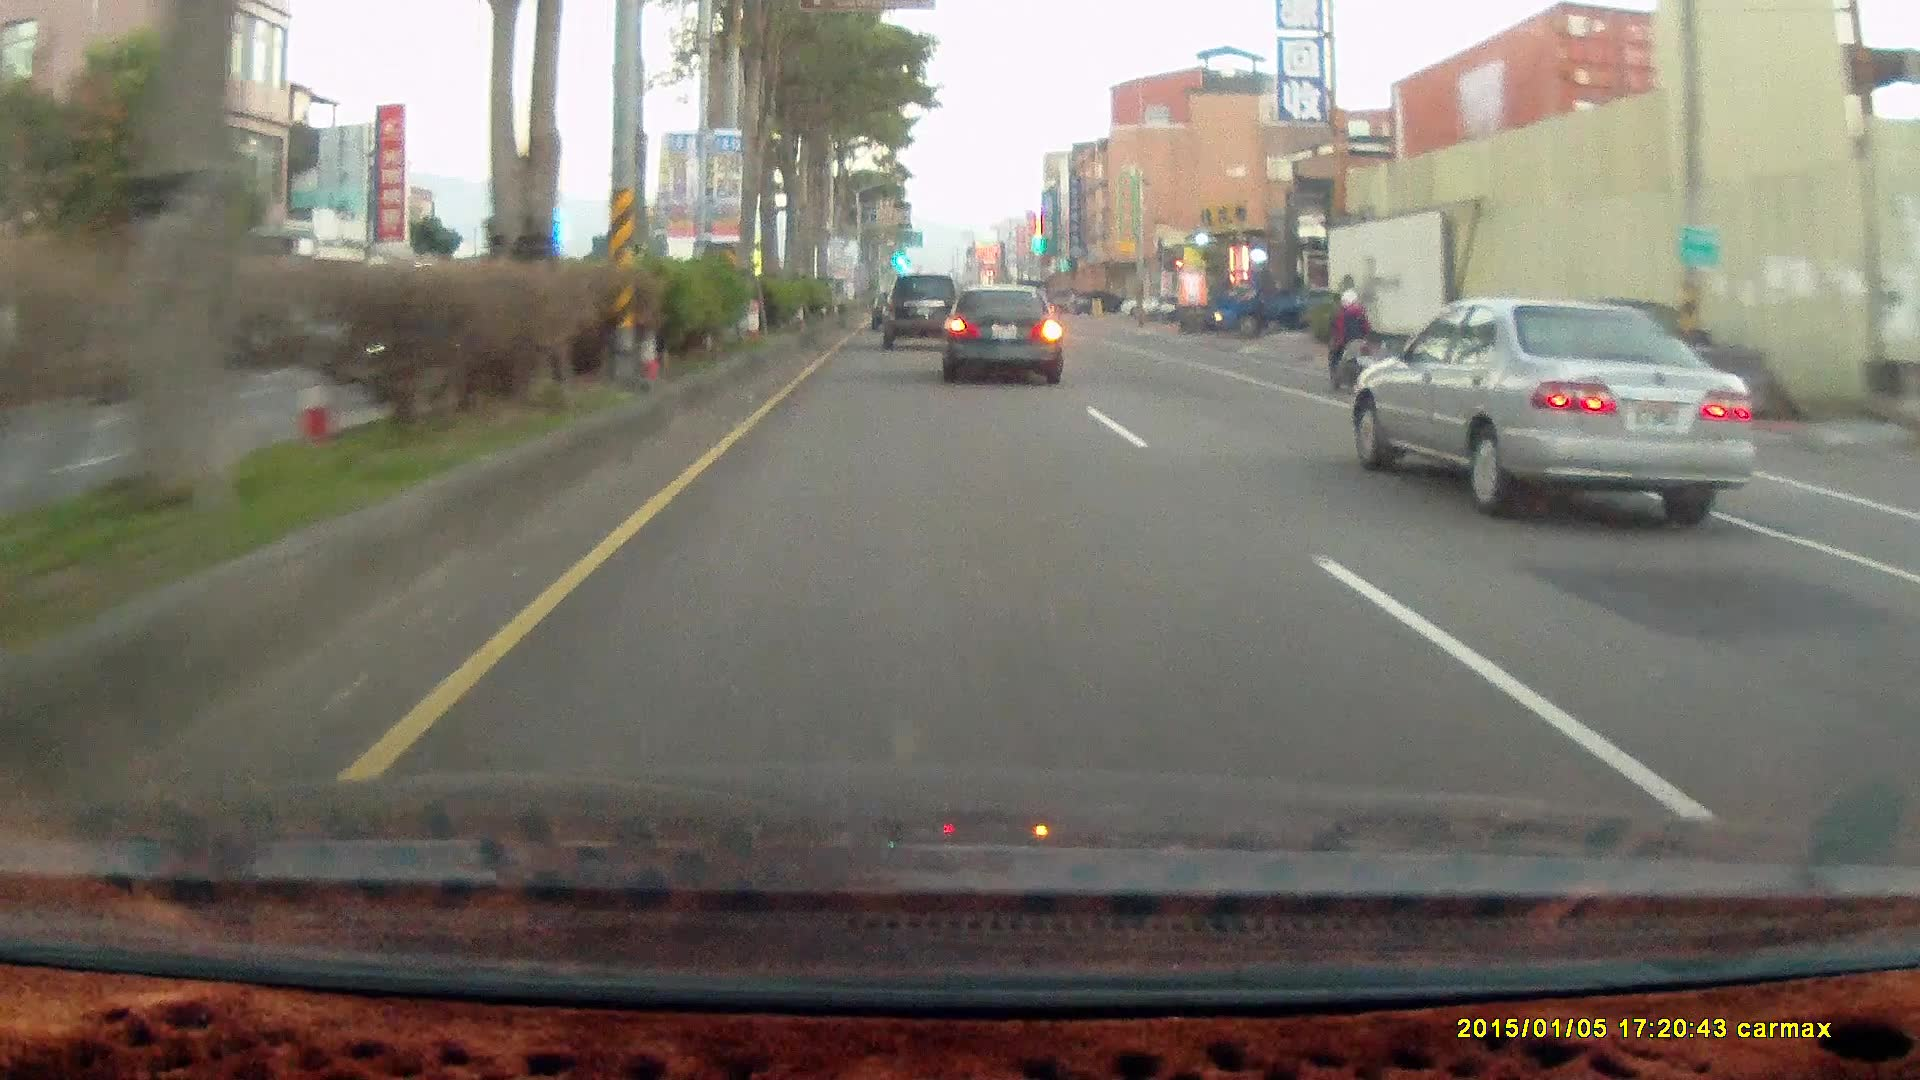rider: (1314, 275, 1383, 399), (1325, 286, 1384, 395)
vehicle: (1350, 296, 1751, 524), (1356, 301, 1761, 521), (938, 286, 1063, 385), (944, 294, 1071, 392), (1209, 266, 1340, 340), (1209, 270, 1342, 338), (884, 277, 963, 352), (881, 276, 961, 347), (1071, 293, 1126, 317), (1117, 294, 1172, 318)
